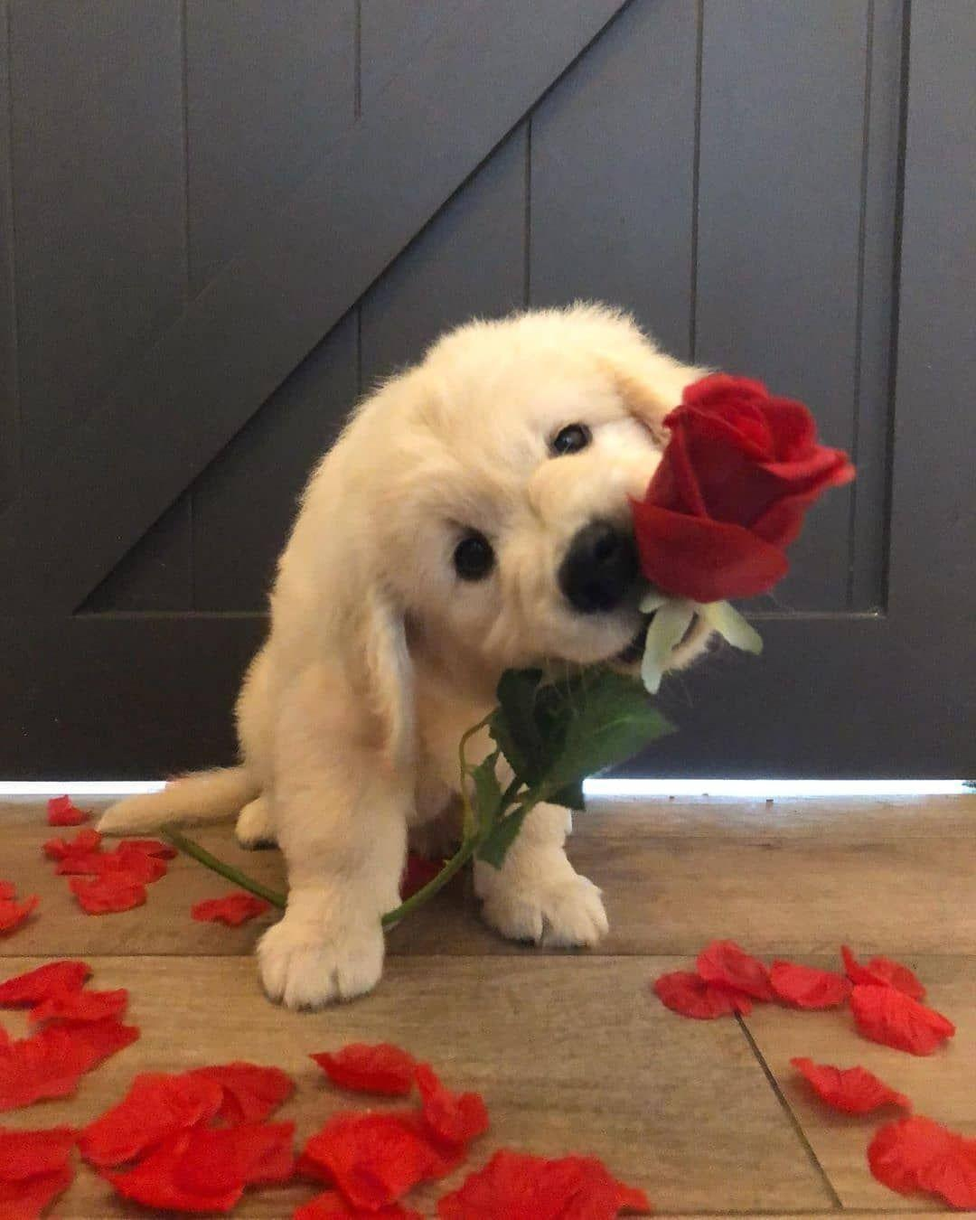puppy-dog: (93, 297, 755, 1012)
